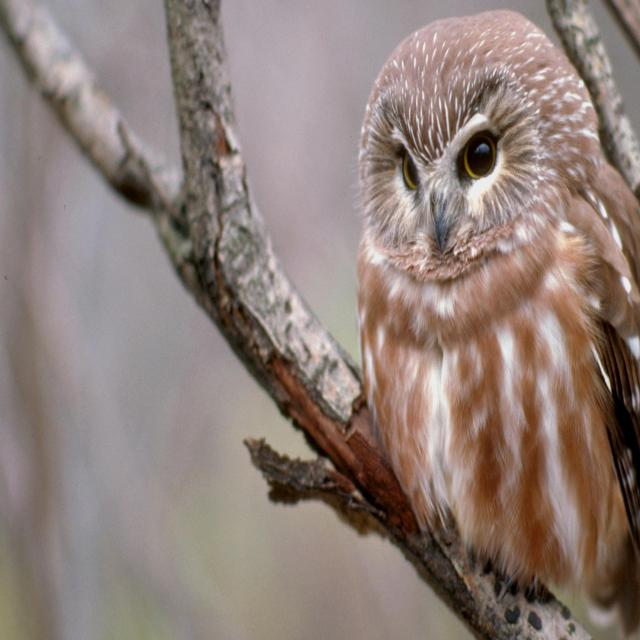Owl: (366, 13, 640, 640)
